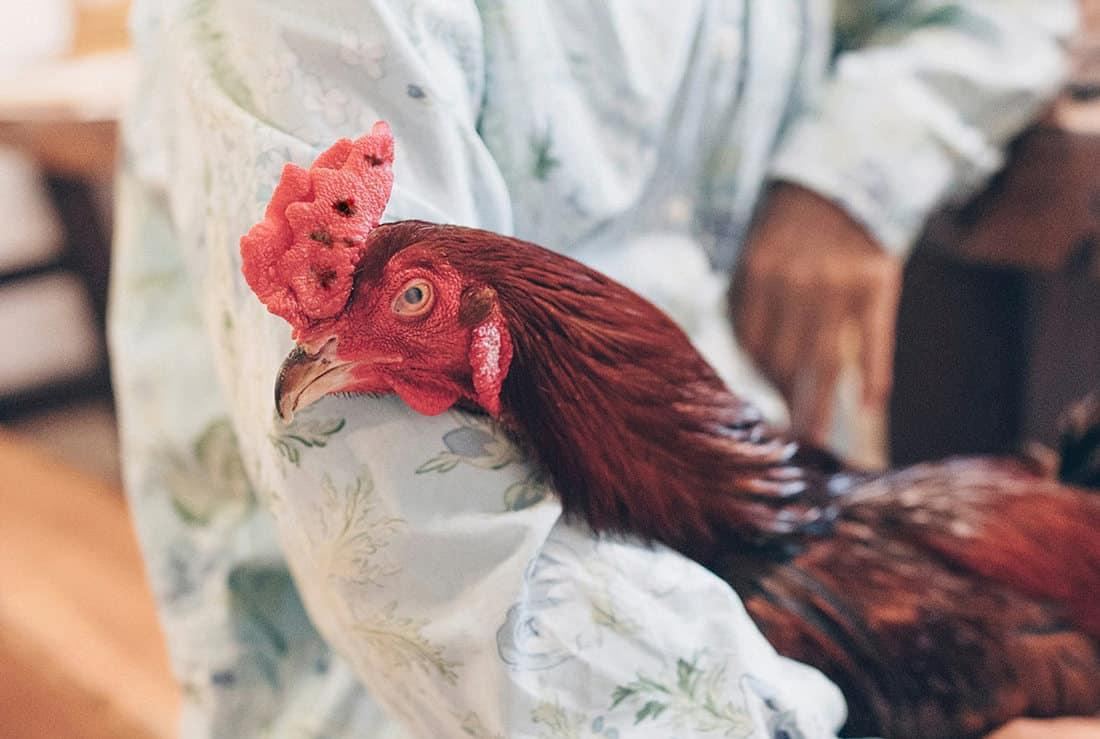AbNormal: (239, 119, 395, 330)
